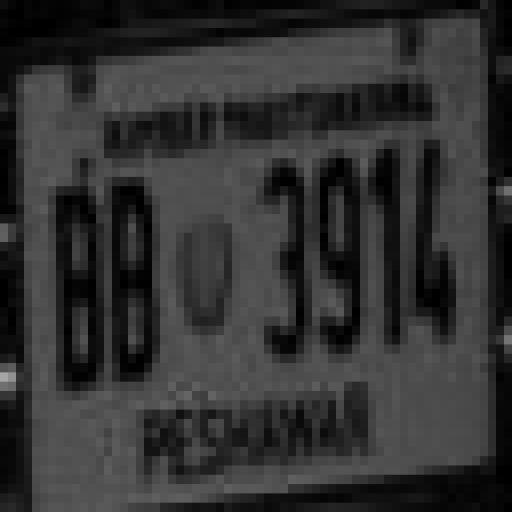1: (364, 135, 408, 351)
3: (256, 156, 309, 373)
4: (408, 138, 471, 353)
9: (314, 151, 360, 362)
B: (105, 172, 164, 392), (48, 190, 105, 396)
